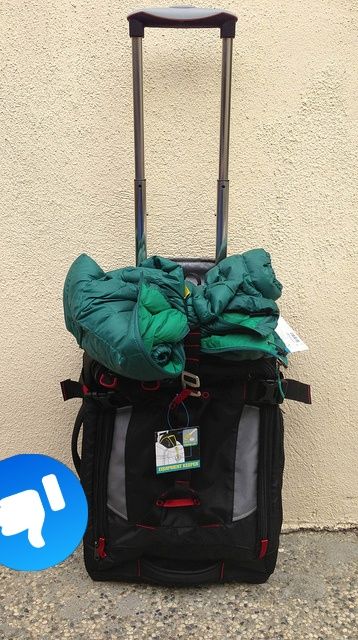like: (0, 454, 88, 571)
